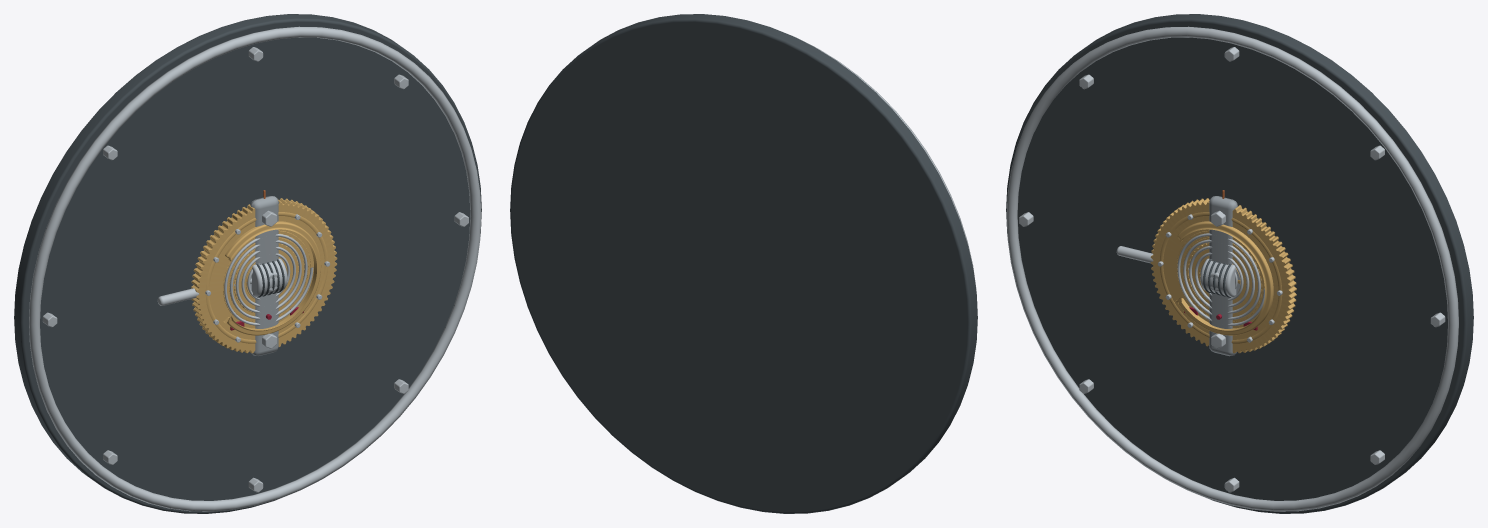
Rendered from mechanical-watch.glb.
3 renders of one model, left to right at view 1: azimuth 30°, elevation 25°; view 2: azimuth 150°, elevation 25°; view 3: azimuth 330°, elevation 25°, orthographic.
Parts seen in each view (by area): view 1: WatchPlate, WatchCenter, WatchMainspring, WatchBridge, WatchBarrel, WatchBalance, WatchCrown, WatchHourWheel, WatchBarrelGear; view 2: WatchPlate; view 3: WatchPlate, WatchCenter, WatchBridge, WatchMainspring, WatchBarrel, WatchBalance, WatchCrown, WatchHourWheel, WatchBarrelGear.
Part boxes in pixels (x1=…): WatchPlate: x1=14, y1=14, x2=481, y2=513; WatchCenter: x1=191, y1=198, x2=337, y2=353; WatchMainspring: x1=224, y1=234, x2=313, y2=325; WatchBridge: x1=250, y1=196, x2=278, y2=355; WatchBarrel: x1=223, y1=221, x2=321, y2=335; WatchBalance: x1=205, y1=212, x2=330, y2=343; WatchCrown: x1=157, y1=258, x2=287, y2=305; WatchHourWheel: x1=233, y1=243, x2=298, y2=313; WatchBarrelGear: x1=229, y1=238, x2=304, y2=316; WatchPlate: x1=510, y1=14, x2=977, y2=513; WatchPlate: x1=1006, y1=14, x2=1473, y2=513; WatchCenter: x1=1150, y1=198, x2=1296, y2=353; WatchBridge: x1=1209, y1=196, x2=1237, y2=356; WatchMainspring: x1=1177, y1=233, x2=1264, y2=326; WatchBarrel: x1=1174, y1=221, x2=1273, y2=335; WatchBalance: x1=1157, y1=212, x2=1282, y2=343; WatchCrown: x1=1116, y1=246, x2=1236, y2=297; WatchHourWheel: x1=1187, y1=242, x2=1252, y2=313; WatchBarrelGear: x1=1184, y1=238, x2=1257, y2=316.
Size of the model in its own units: 3.72 by 3.72 by 0.428.
